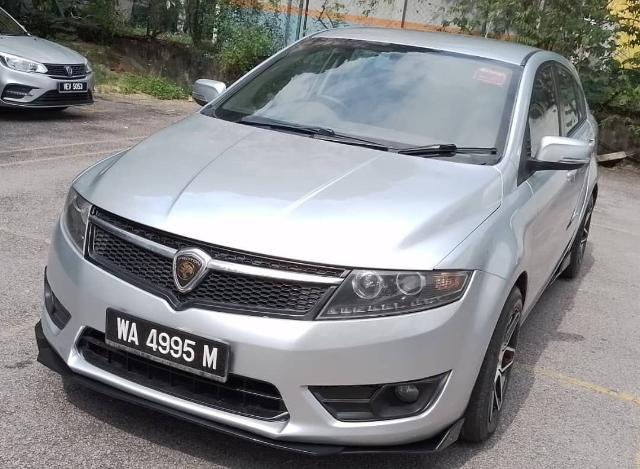License_Plate: (100, 298, 234, 399)
car: (37, 18, 640, 451)
